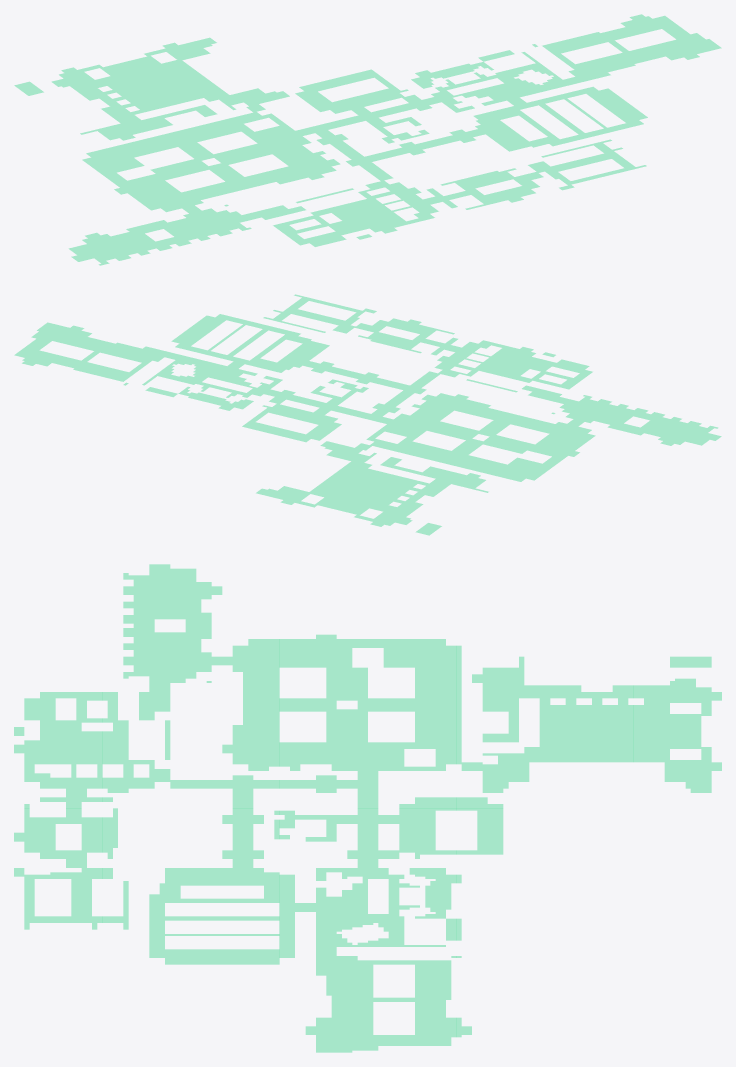
The model's file is ai_company_floor_navmesh.glb.
The picture shows the model from 3 angles, top to bottom: view 1: azimuth 30°, elevation 25°; view 2: azimuth 150°, elevation 25°; view 3: azimuth 270°, elevation 25°; orthographic projection. The views are drawn at different scales.
Visible parts, largest first — view 1: T04_NAVMESH, T13_NAVMESH, T00_NAVMESH, T14_NAVMESH, T12_NAVMESH, T11_NAVMESH, T08_NAVMESH, T06_NAVMESH, T01_NAVMESH, T09_NAVMESH, T10_NAVMESH, T05_NAVMESH (+2 smaller); view 2: T04_NAVMESH, T13_NAVMESH, T00_NAVMESH, T14_NAVMESH, T12_NAVMESH, T11_NAVMESH, T08_NAVMESH, T06_NAVMESH, T01_NAVMESH, T09_NAVMESH, T05_NAVMESH, T10_NAVMESH (+2 smaller); view 3: T04_NAVMESH, T13_NAVMESH, T00_NAVMESH, T14_NAVMESH, T12_NAVMESH, T11_NAVMESH, T08_NAVMESH, T06_NAVMESH, T01_NAVMESH, T09_NAVMESH, T05_NAVMESH, T10_NAVMESH (+2 smaller).
Boxes of the visible parts, x1=… form: T04_NAVMESH: x1=82, y1=107, x2=339, y2=211; T13_NAVMESH: x1=14, y1=37, x2=289, y2=140; T00_NAVMESH: x1=248, y1=175, x2=438, y2=246; T14_NAVMESH: x1=532, y1=14, x2=721, y2=83; T12_NAVMESH: x1=69, y1=204, x2=254, y2=265; T11_NAVMESH: x1=472, y1=87, x2=647, y2=151; T08_NAVMESH: x1=411, y1=50, x2=575, y2=112; T06_NAVMESH: x1=295, y1=69, x2=417, y2=113; T01_NAVMESH: x1=427, y1=168, x2=539, y2=209; T09_NAVMESH: x1=528, y1=139, x2=646, y2=190; T10_NAVMESH: x1=371, y1=129, x2=478, y2=160; T05_NAVMESH: x1=327, y1=97, x2=434, y2=128; T04_NAVMESH: x1=358, y1=393, x2=595, y2=481; T13_NAVMESH: x1=256, y1=441, x2=488, y2=535; T00_NAVMESH: x1=427, y1=340, x2=592, y2=402; T14_NAVMESH: x1=14, y1=322, x2=175, y2=385; T12_NAVMESH: x1=551, y1=395, x2=721, y2=445; T11_NAVMESH: x1=171, y1=314, x2=329, y2=372; T08_NAVMESH: x1=142, y1=354, x2=282, y2=410; T06_NAVMESH: x1=242, y1=399, x2=341, y2=441; T01_NAVMESH: x1=358, y1=318, x2=457, y2=355; T09_NAVMESH: x1=263, y1=294, x2=376, y2=333; T05_NAVMESH: x1=270, y1=390, x2=364, y2=416; T10_NAVMESH: x1=309, y1=361, x2=403, y2=388; T04_NAVMESH: x1=222, y1=634, x2=471, y2=775; T13_NAVMESH: x1=472, y1=656, x2=721, y2=792; T00_NAVMESH: x1=14, y1=687, x2=180, y2=792; T14_NAVMESH: x1=305, y1=951, x2=471, y2=1052; T12_NAVMESH: x1=123, y1=564, x2=222, y2=687; T11_NAVMESH: x1=149, y1=863, x2=305, y2=964; T08_NAVMESH: x1=305, y1=863, x2=461, y2=951; T06_NAVMESH: x1=388, y1=797, x2=503, y2=858; T01_NAVMESH: x1=14, y1=793, x2=117, y2=863; T09_NAVMESH: x1=14, y1=863, x2=128, y2=929; T05_NAVMESH: x1=347, y1=793, x2=388, y2=863; T10_NAVMESH: x1=222, y1=793, x2=263, y2=863.
Bounding box in the file's own units: 55.5 × 0 × 34.
